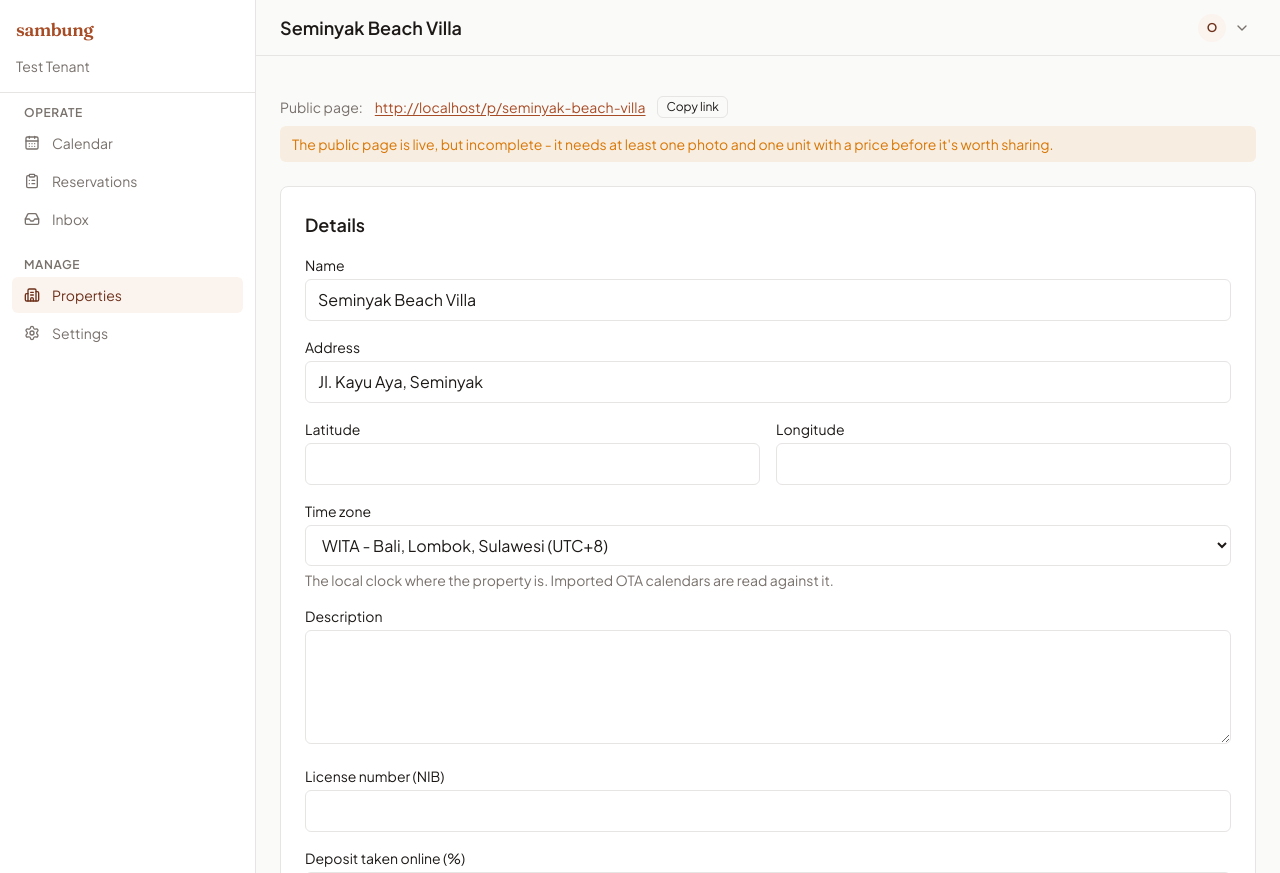
Test: property edit (§4.5 details tab) › previews the Verified badge live while typing a license number
This screenshot has width=1280, height=873.
Expected: the heading "Details" is shown, [305, 213, 365, 236]
Expected: the text "Verified" is not shown
Type "NIB-123" into the field labelled "License number (NIB)" at (768, 811), box [305, 790, 1231, 832]
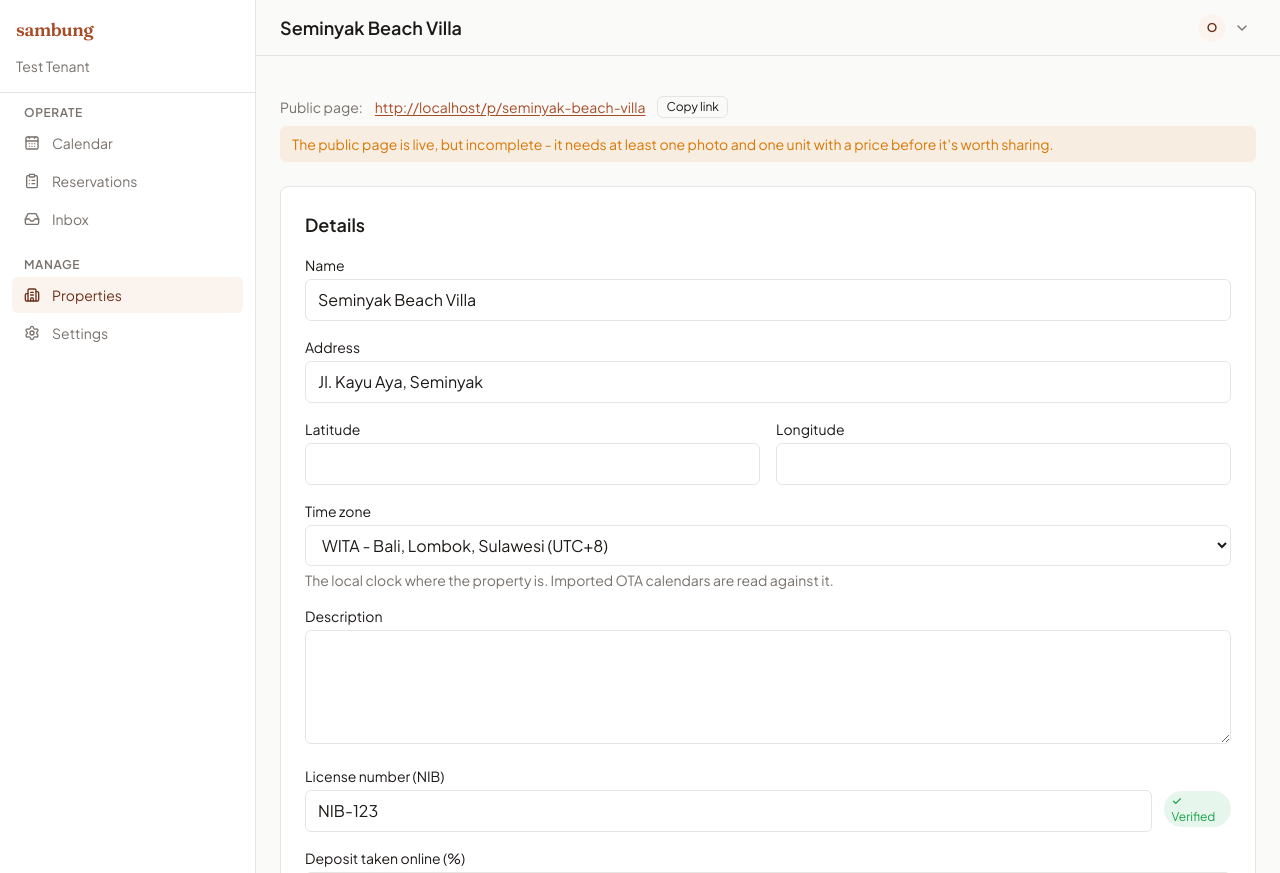
Expected: the text "✓ Verified" is shown, [1164, 791, 1231, 827]
